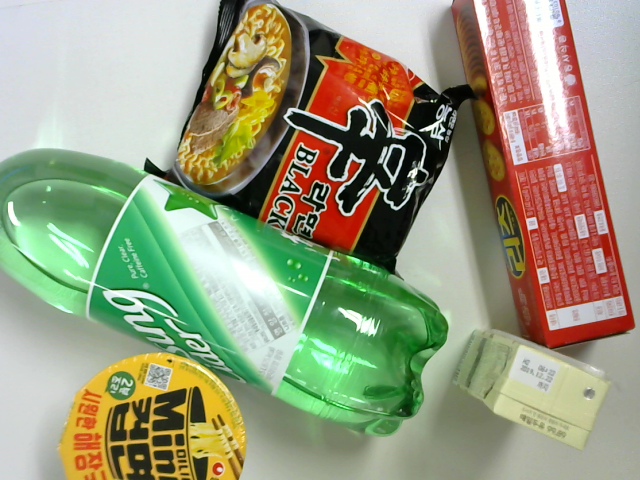99.89_Soymilk: (455, 322, 613, 456)
Chilseong_Cider_1.5L: (7, 148, 443, 438)
Hejangmini: (57, 352, 247, 480)
Ritz_Cracker: (455, 10, 640, 352)
Sinramen_Black: (163, 2, 459, 274)
